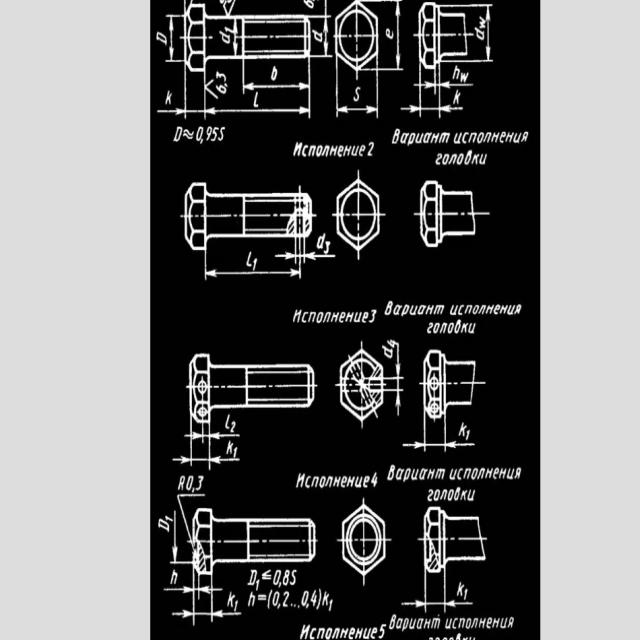marking_line: (156, 73, 315, 121), (202, 73, 313, 119), (163, 575, 241, 627), (400, 70, 476, 118), (170, 424, 241, 469), (203, 252, 305, 282), (401, 574, 474, 615), (403, 420, 481, 456), (241, 61, 312, 95), (201, 423, 244, 474), (334, 72, 379, 118), (378, 0, 405, 71), (384, 340, 406, 418), (468, 1, 494, 63), (274, 238, 336, 264), (414, 70, 475, 96), (156, 70, 187, 118), (443, 569, 474, 613), (171, 509, 193, 565), (443, 417, 477, 452), (400, 570, 427, 614), (161, 575, 202, 600), (402, 413, 427, 453), (164, 14, 183, 63), (311, 14, 331, 58), (176, 491, 192, 545), (385, 342, 405, 381), (207, 423, 243, 443), (197, 576, 224, 601), (385, 388, 406, 416), (184, 423, 205, 445), (177, 492, 206, 507), (232, 20, 238, 56)
numeric: (156, 32, 168, 46), (312, 29, 323, 43), (186, 474, 194, 492), (368, 307, 377, 323), (378, 624, 387, 640), (210, 126, 219, 142), (302, 0, 316, 10), (282, 569, 290, 586), (272, 570, 281, 585), (311, 588, 318, 607), (196, 475, 204, 491), (196, 126, 204, 142), (301, 589, 308, 607), (386, 338, 397, 349), (216, 70, 227, 81), (205, 126, 213, 141), (367, 142, 375, 157), (371, 472, 378, 489), (354, 87, 361, 102), (216, 84, 226, 94), (273, 591, 279, 607), (324, 240, 330, 255), (252, 256, 258, 271), (166, 89, 172, 104), (328, 598, 334, 612), (230, 421, 237, 433), (283, 591, 288, 607), (463, 587, 468, 601), (164, 516, 174, 522), (233, 599, 238, 611), (224, 27, 232, 34), (466, 429, 470, 441), (233, 447, 237, 459)
special_symbol: (206, 79, 219, 101), (222, 1, 236, 16), (317, 588, 324, 612), (261, 569, 272, 581), (267, 590, 273, 609), (257, 593, 267, 602), (294, 603, 297, 610), (290, 602, 294, 607), (297, 605, 300, 609)
